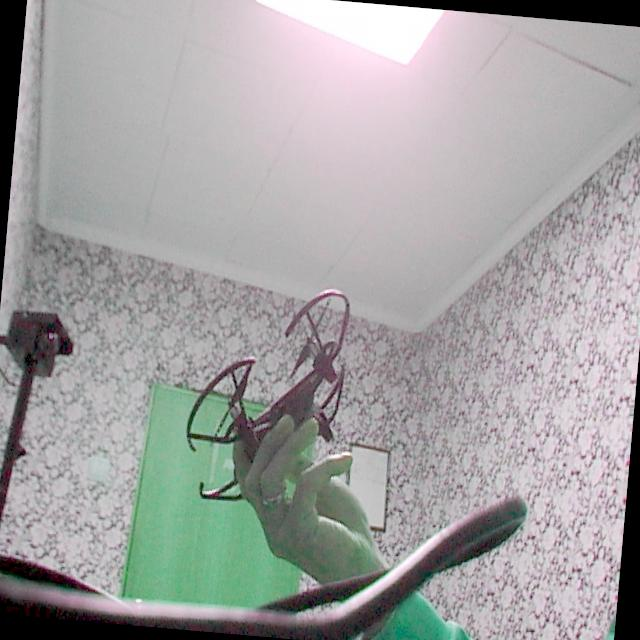drone: (156, 267, 372, 529)
